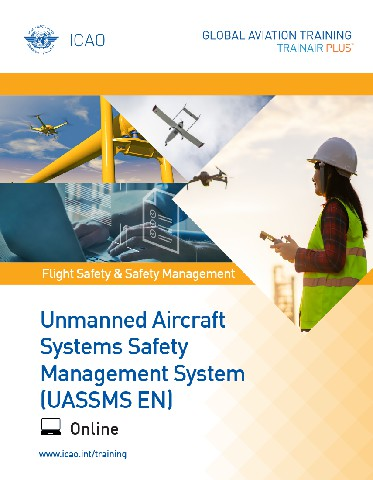maybay_khongnguoilai: (150, 103, 208, 148), (9, 107, 70, 145), (180, 167, 229, 189)
